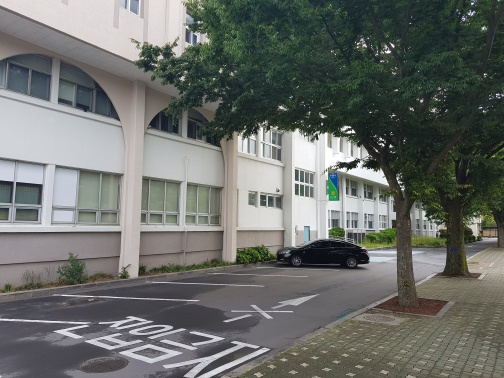Main Building of University: (6, 4, 394, 240), (20, 51, 228, 153), (322, 163, 344, 204)
